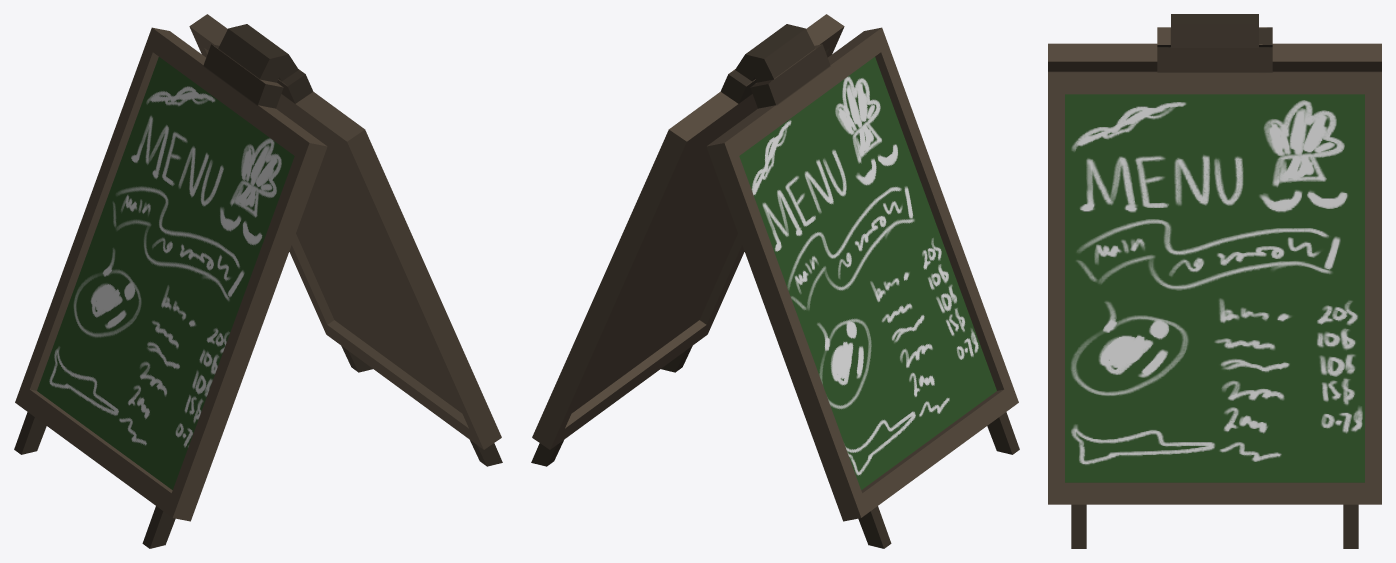
The model's file is P_CAFE SIGN.fbx.
3 renders of one model, left to right at view 1: azimuth 30°, elevation 25°; view 2: azimuth 150°, elevation 25°; view 3: azimuth 270°, elevation 25°, orthographic. The views are drawn at different scales.
Visible parts, largest first — view 1: Cafe_Sign; view 2: Cafe_Sign; view 3: Cafe_Sign.
Part boxes in pixels (x1,y1,x2,y2): Cafe_Sign: (14, 14, 502, 548); Cafe_Sign: (531, 14, 1019, 548); Cafe_Sign: (1048, 14, 1381, 548).
Size of the model in its own units: 86.75 by 97.37 by 67.1.
